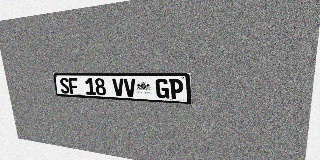plate: (53, 73, 191, 104)
